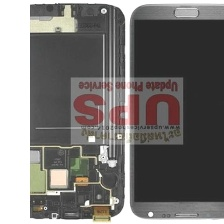phone: (0, 0, 127, 221), (128, 0, 224, 224)
